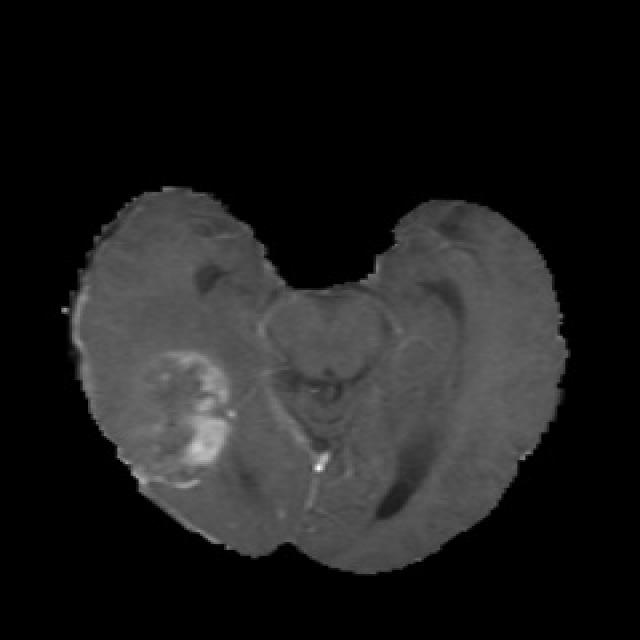negative: (128, 348, 232, 476)
